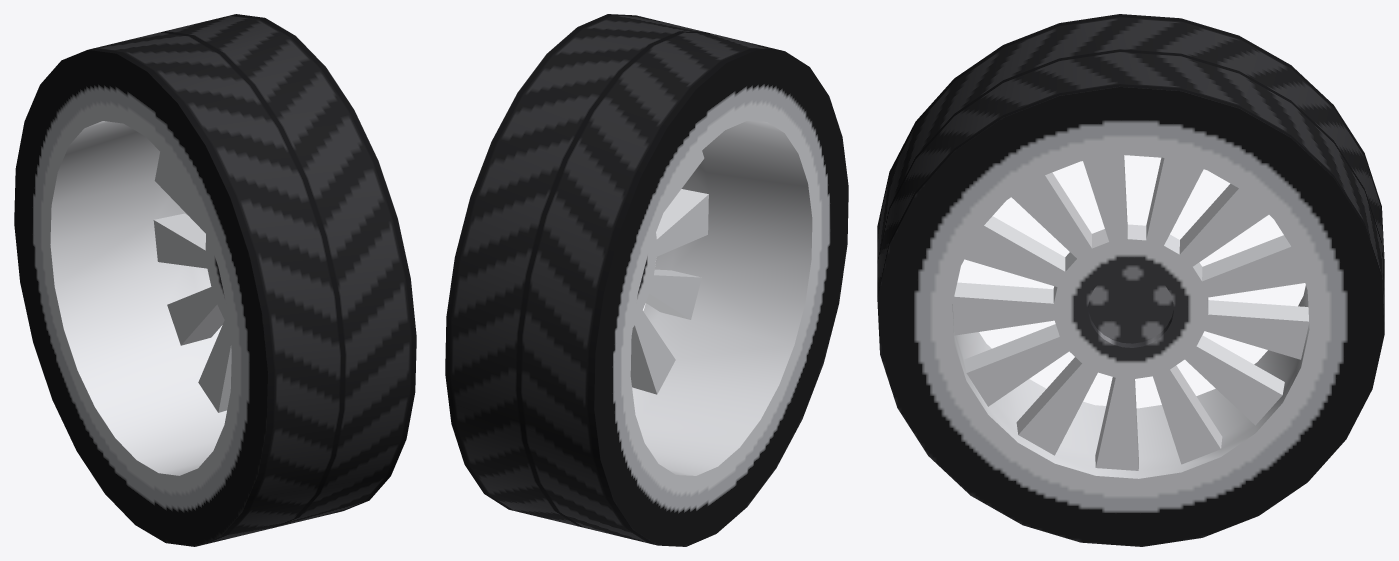
File: evo_rally_wheel.obj
3 views of the same model, side by side, from view 1: azimuth 30°, elevation 25°; view 2: azimuth 150°, elevation 25°; view 3: azimuth 270°, elevation 25° (orthographic).
Visible parts, largest first — view 1: evo_rally_wheel; view 2: evo_rally_wheel; view 3: evo_rally_wheel.
Part boxes in pixels (x1=…): evo_rally_wheel: x1=14, y1=14, x2=416, y2=546; evo_rally_wheel: x1=445, y1=14, x2=848, y2=546; evo_rally_wheel: x1=877, y1=14, x2=1384, y2=546.
Bounding box in the file's own units: 20.4 × 60.02 × 59.84.
1 material, 1 textured.
